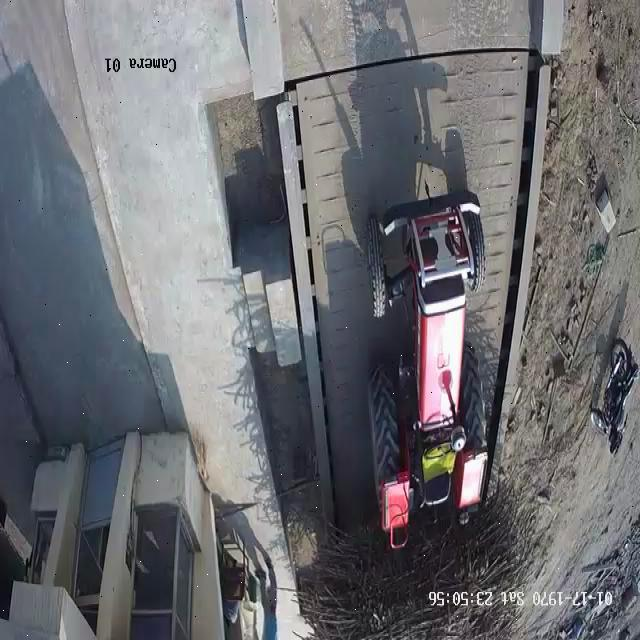Tratores - v5 YOLO V8L 2024-11-13: (356, 192, 490, 529)
